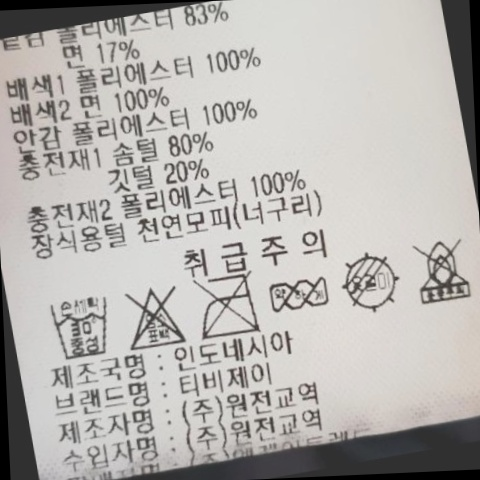DN_iron: (189, 270, 264, 345)
hand_wash: (48, 289, 122, 365)
line_dry_in_shade: (339, 247, 408, 317)
non_chlorine_bleach: (119, 273, 194, 354)
wring: (266, 268, 338, 318)
